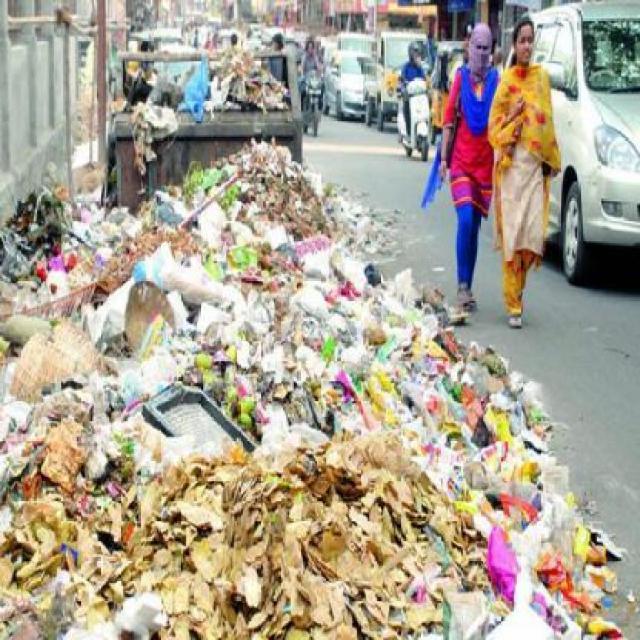garbage: (45, 194, 361, 640), (325, 328, 540, 632), (205, 140, 325, 251), (134, 56, 286, 126)
